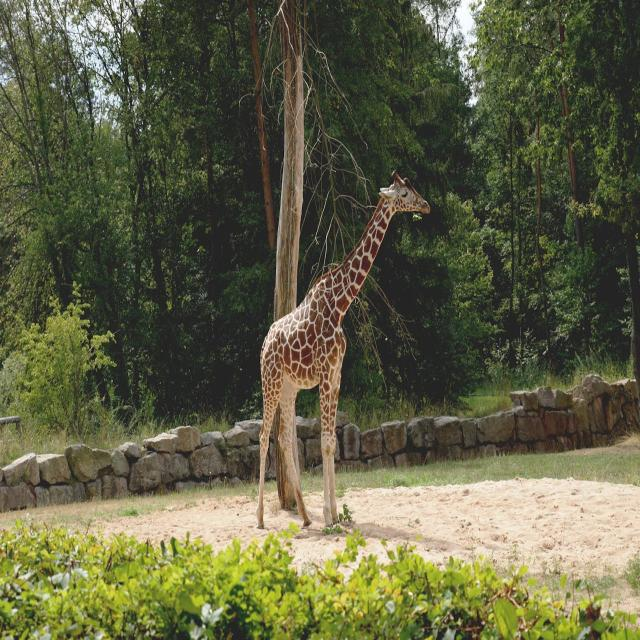Giraffe: (254, 167, 430, 526)
